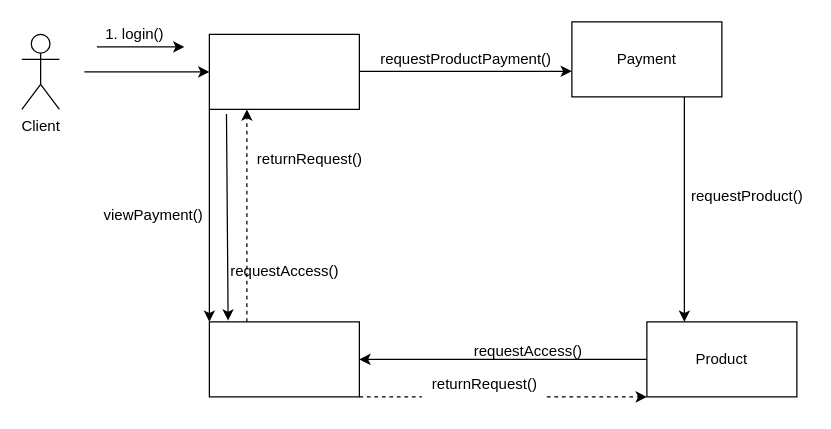
Image size: 831x429. Some labels were removed from this diagram. Here are the shapes that lost their labels. From the top down, the box of each, then its label:
(208, 33, 359, 109): Dashboards
(208, 321, 359, 397): Database
